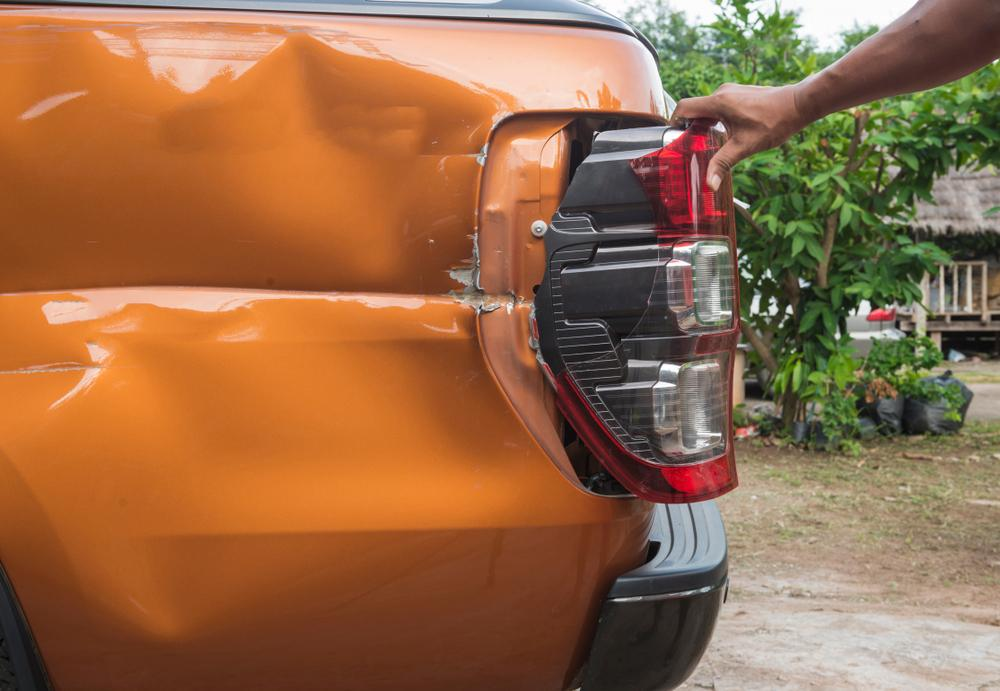dent: (40, 298, 520, 635), (164, 34, 500, 273)
lamp broken: (535, 125, 741, 503)
